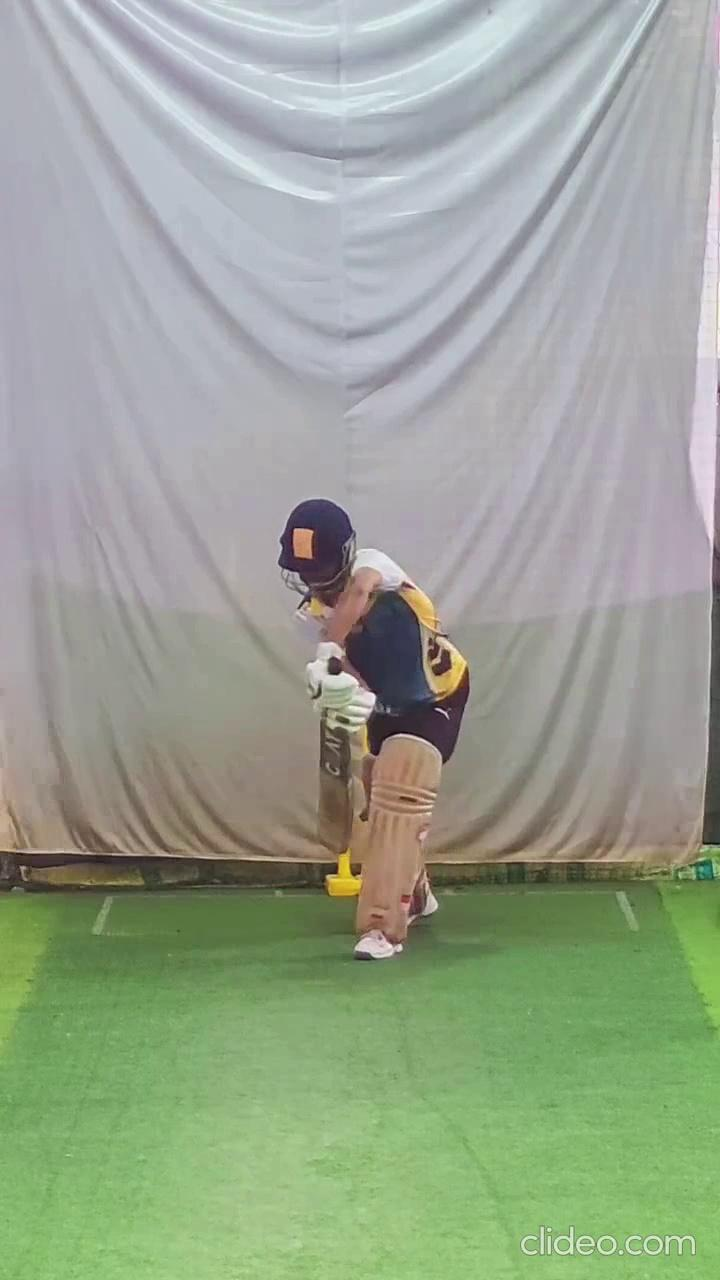bat: (313, 717, 357, 862)
